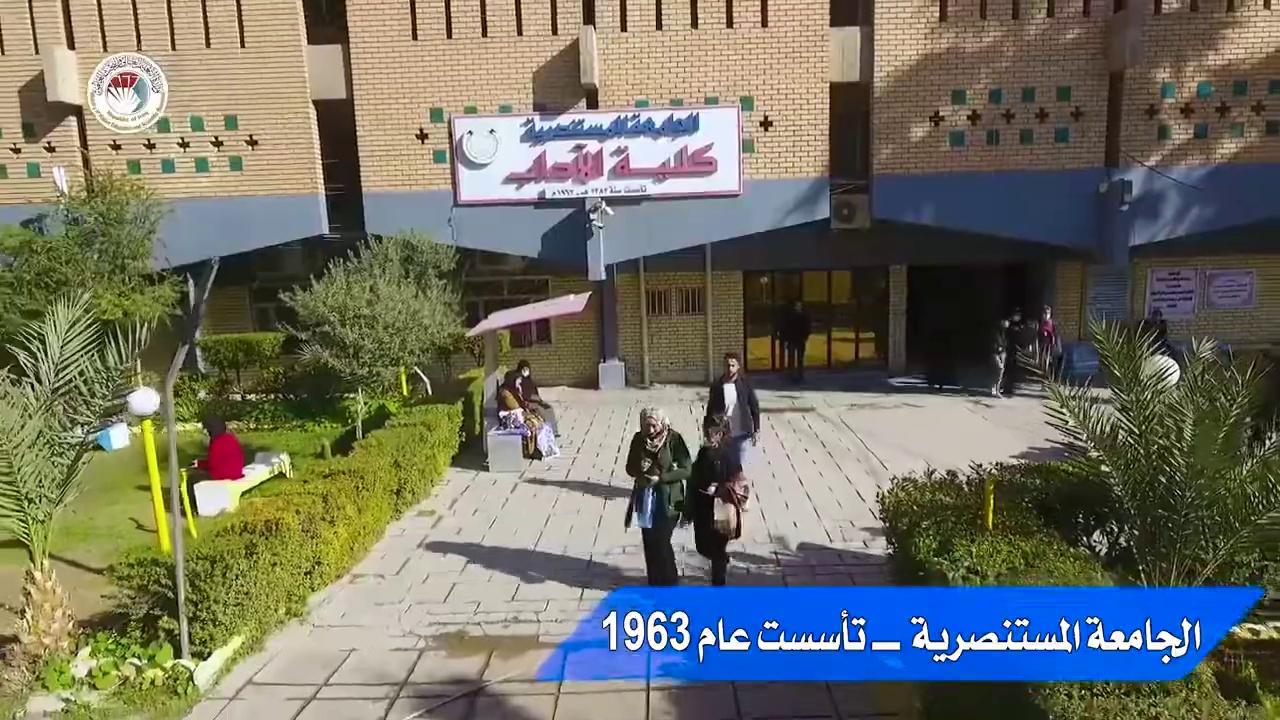person: (623, 405, 692, 586), (686, 412, 748, 586), (703, 351, 760, 474), (179, 413, 245, 516), (498, 359, 560, 459), (1135, 314, 1181, 390), (994, 306, 1031, 397), (783, 300, 811, 382), (1036, 303, 1062, 381), (1140, 308, 1172, 356)
tree: (1003, 310, 1278, 718), (0, 282, 156, 682), (272, 227, 478, 440), (0, 163, 187, 386), (193, 329, 285, 402)
